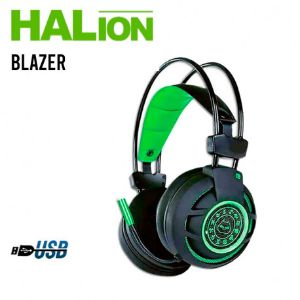headset: (108, 54, 265, 281)
